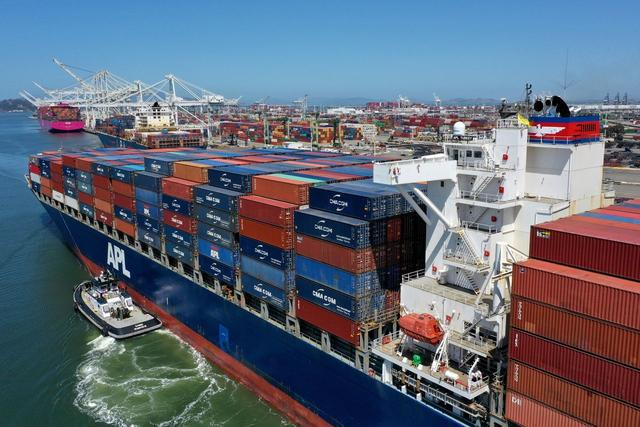Cargoship: (20, 127, 640, 427), (73, 270, 161, 340), (92, 107, 210, 154), (34, 94, 89, 132)
